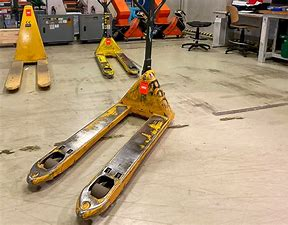Pallet Jack: (26, 1, 177, 219), (5, 3, 52, 92), (92, 1, 141, 79)
